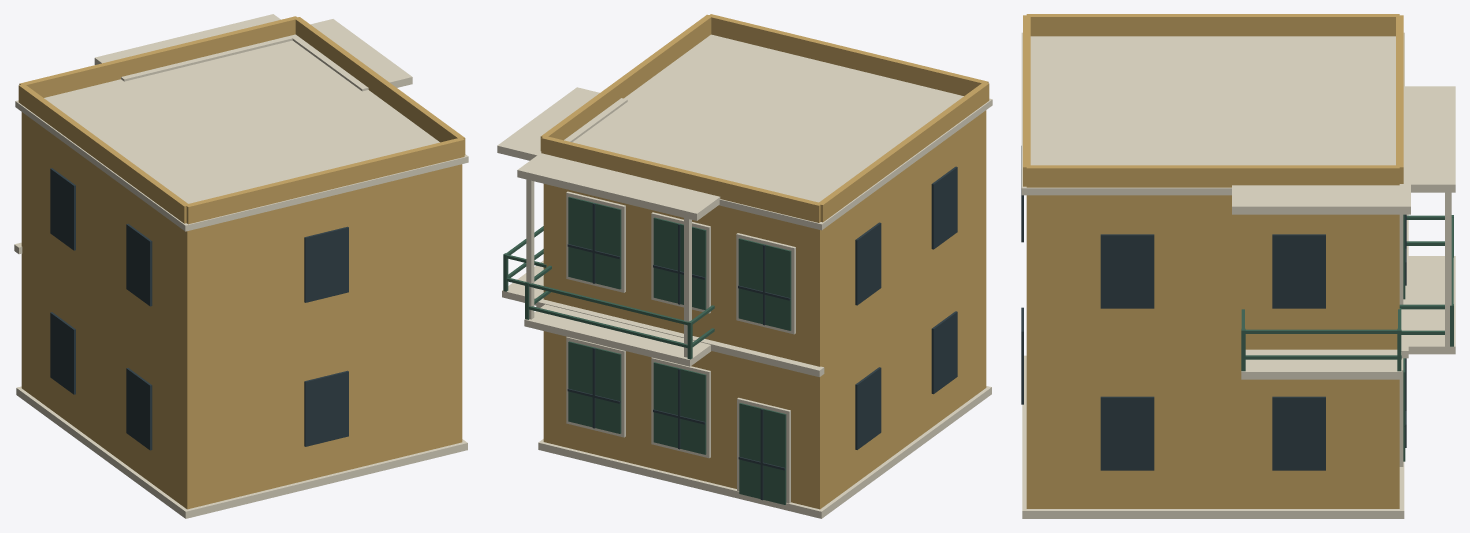
The model's file is KOL_T3_OLD_06.fbx.
The picture shows the model from 3 angles, left to right: view 1: azimuth 30°, elevation 25°; view 2: azimuth 150°, elevation 25°; view 3: azimuth 270°, elevation 25°; orthographic projection. The views are drawn at different scales.
Visible parts, largest first — view 1: KOL_T3_OLD_06__Body, KOL_T3_OLD_06__Trim, KOL_T3_OLD_06__Dark; view 2: KOL_T3_OLD_06__Body, KOL_T3_OLD_06__Trim, KOL_T3_OLD_06__Accent, KOL_T3_OLD_06__Dark; view 3: KOL_T3_OLD_06__Body, KOL_T3_OLD_06__Trim, KOL_T3_OLD_06__Dark, KOL_T3_OLD_06__Accent.
Part boxes in pixels (x1,y1,x2,y2): KOL_T3_OLD_06__Body: [18, 16, 465, 509]; KOL_T3_OLD_06__Trim: [14, 14, 468, 518]; KOL_T3_OLD_06__Dark: [50, 168, 348, 450]; KOL_T3_OLD_06__Body: [540, 14, 989, 509]; KOL_T3_OLD_06__Trim: [497, 34, 992, 518]; KOL_T3_OLD_06__Accent: [503, 196, 791, 504]; KOL_T3_OLD_06__Dark: [567, 166, 957, 500]; KOL_T3_OLD_06__Body: [1023, 14, 1403, 508]; KOL_T3_OLD_06__Trim: [1021, 32, 1455, 518]; KOL_T3_OLD_06__Dark: [1021, 146, 1406, 470]; KOL_T3_OLD_06__Accent: [1241, 214, 1453, 461].
Bounding box in the file's own units: 27.97 × 25.9 × 29.12.
